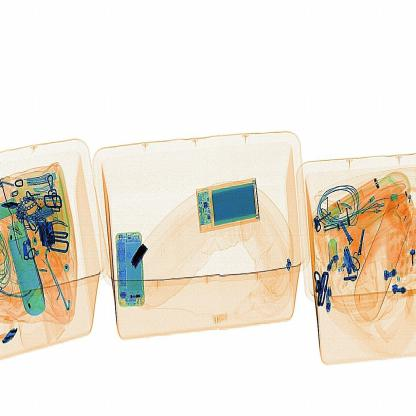scissors: (126, 238, 161, 277)
